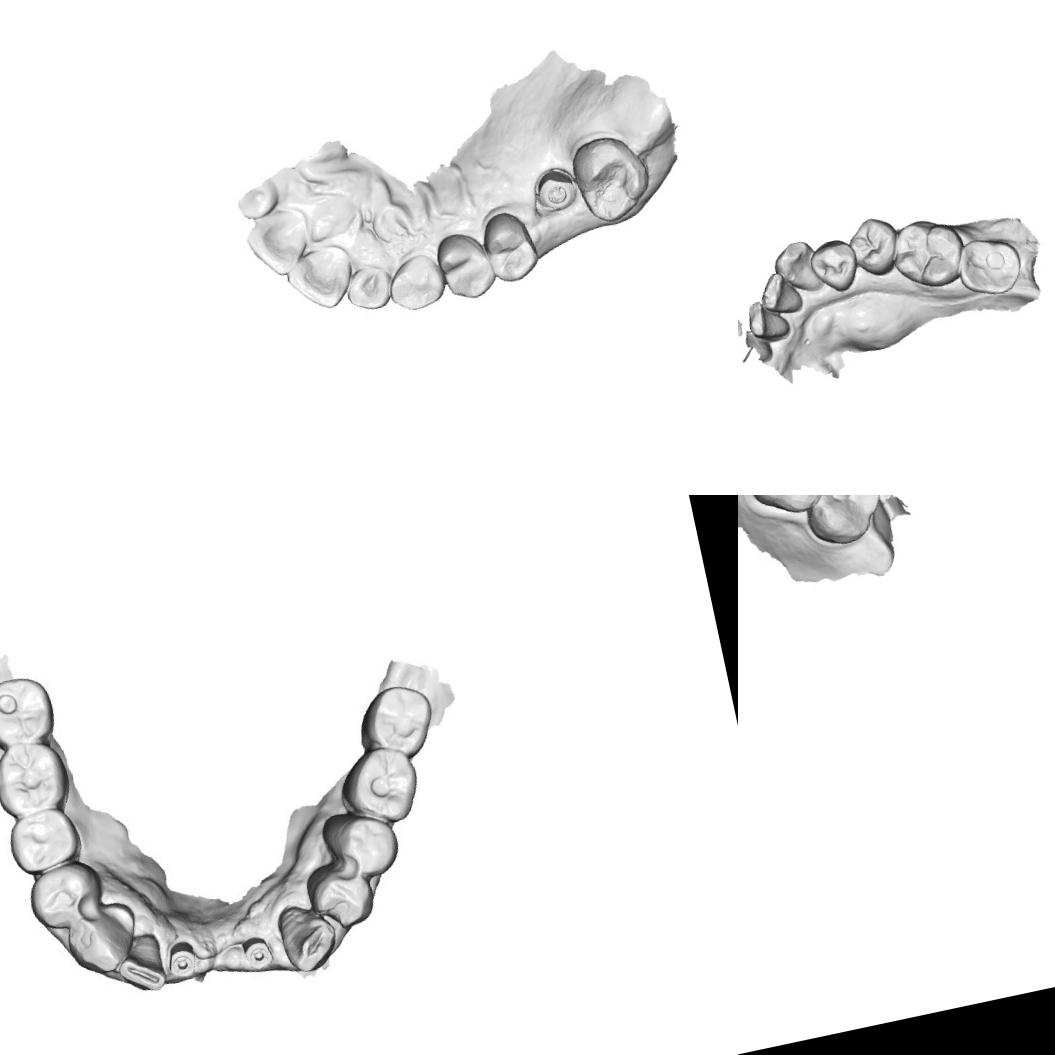canine: (62, 902, 142, 979), (272, 900, 346, 978), (383, 252, 449, 316), (768, 236, 828, 300)
implant: (532, 168, 578, 211)
implant_plus: (236, 931, 280, 980), (166, 942, 204, 982)
incisor: (243, 204, 314, 284), (282, 246, 358, 318), (114, 930, 172, 994), (340, 259, 394, 316), (755, 268, 806, 318), (744, 295, 793, 344)
molar: (328, 742, 424, 834), (566, 129, 654, 228), (344, 679, 438, 770), (885, 212, 972, 296), (0, 733, 72, 824), (950, 230, 1028, 302), (0, 668, 60, 755), (798, 495, 890, 550), (739, 495, 836, 522)
premolar: (316, 800, 402, 880), (21, 857, 107, 935), (299, 858, 375, 934), (432, 225, 499, 306), (7, 805, 81, 878), (478, 206, 542, 288), (844, 212, 904, 282), (806, 235, 862, 298)
